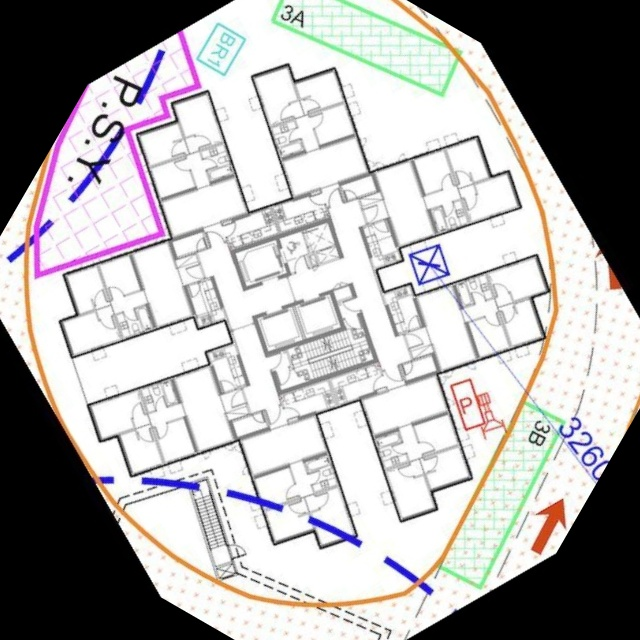tower_crane: (405, 244, 454, 286)
